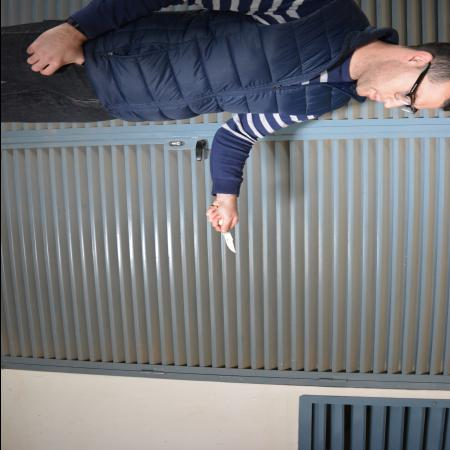long weapon: (206, 203, 238, 255)
